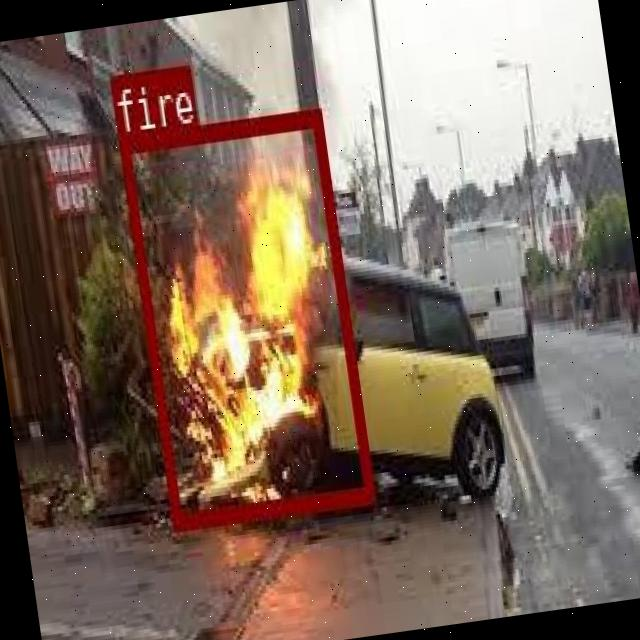fire: (116, 108, 374, 528)
